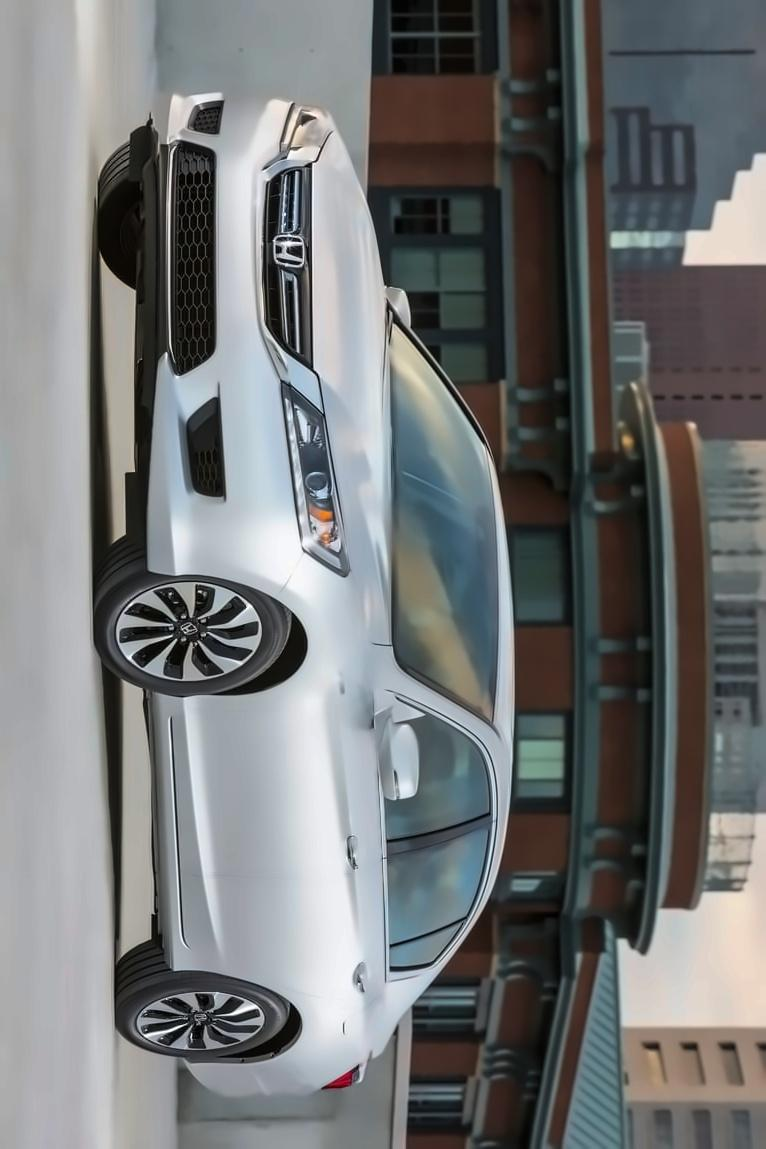Car hood: (304, 112, 408, 647)
Fender - -F-L-: (134, 566, 428, 737)
Fender - -R-L-: (138, 945, 464, 1082)
Front bumper: (130, 76, 314, 599)
Headlight - -L-: (278, 380, 353, 581)
Headlight - -R-: (264, 98, 337, 179)
Passenger-s door - -F-L-: (130, 652, 526, 878)
Passenger-s door - -R-L-: (108, 810, 552, 1023)
Side bumper - -L-: (92, 650, 257, 982)
Side mirror - -L-: (362, 710, 430, 814)
